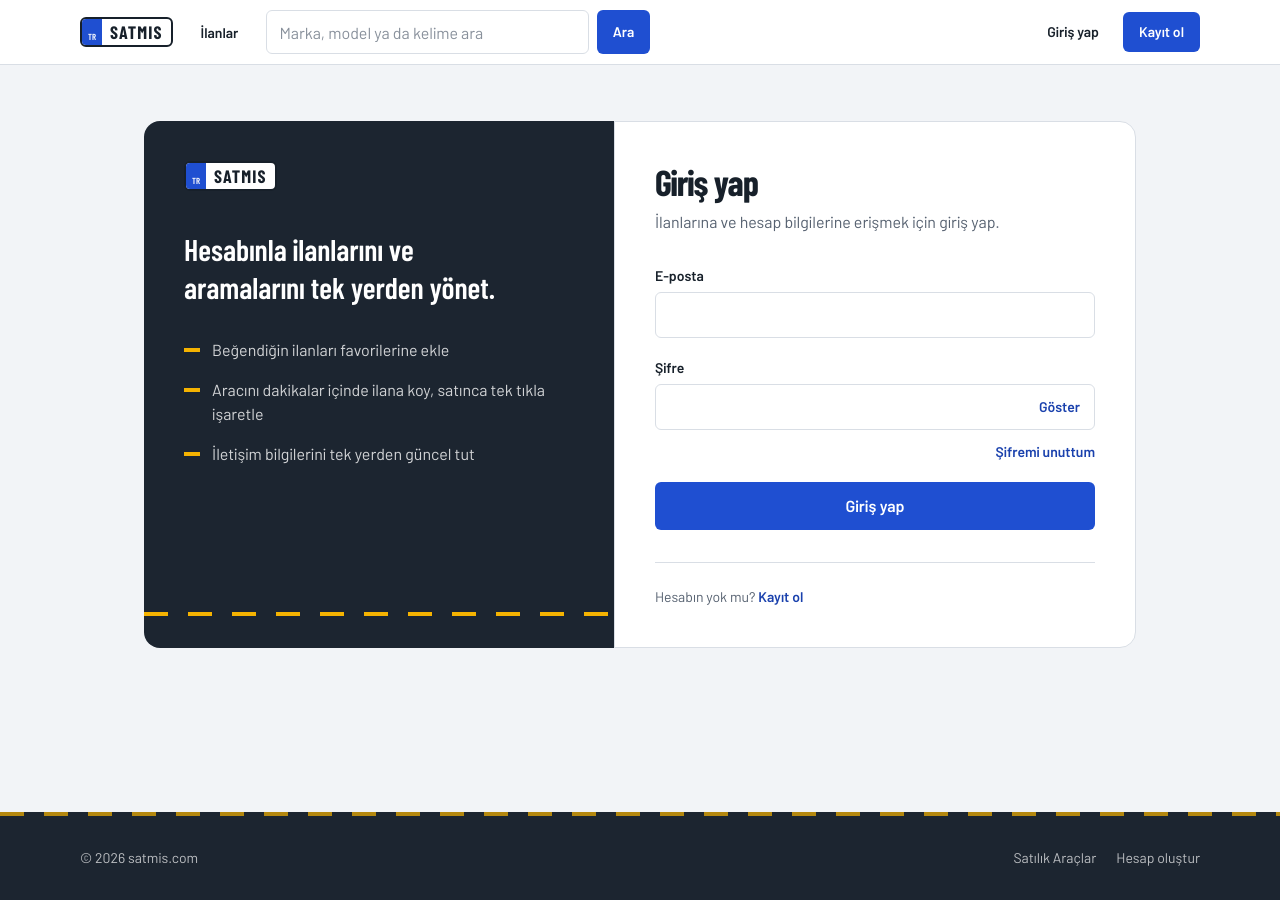
Test case: LoginForm › submit_invalidEmail_showsFormatMessage
This screenshot has width=1280, height=900.
Type "ayse@" into the field labelled "E-posta" at (875, 315), box [656,293,1094,337]
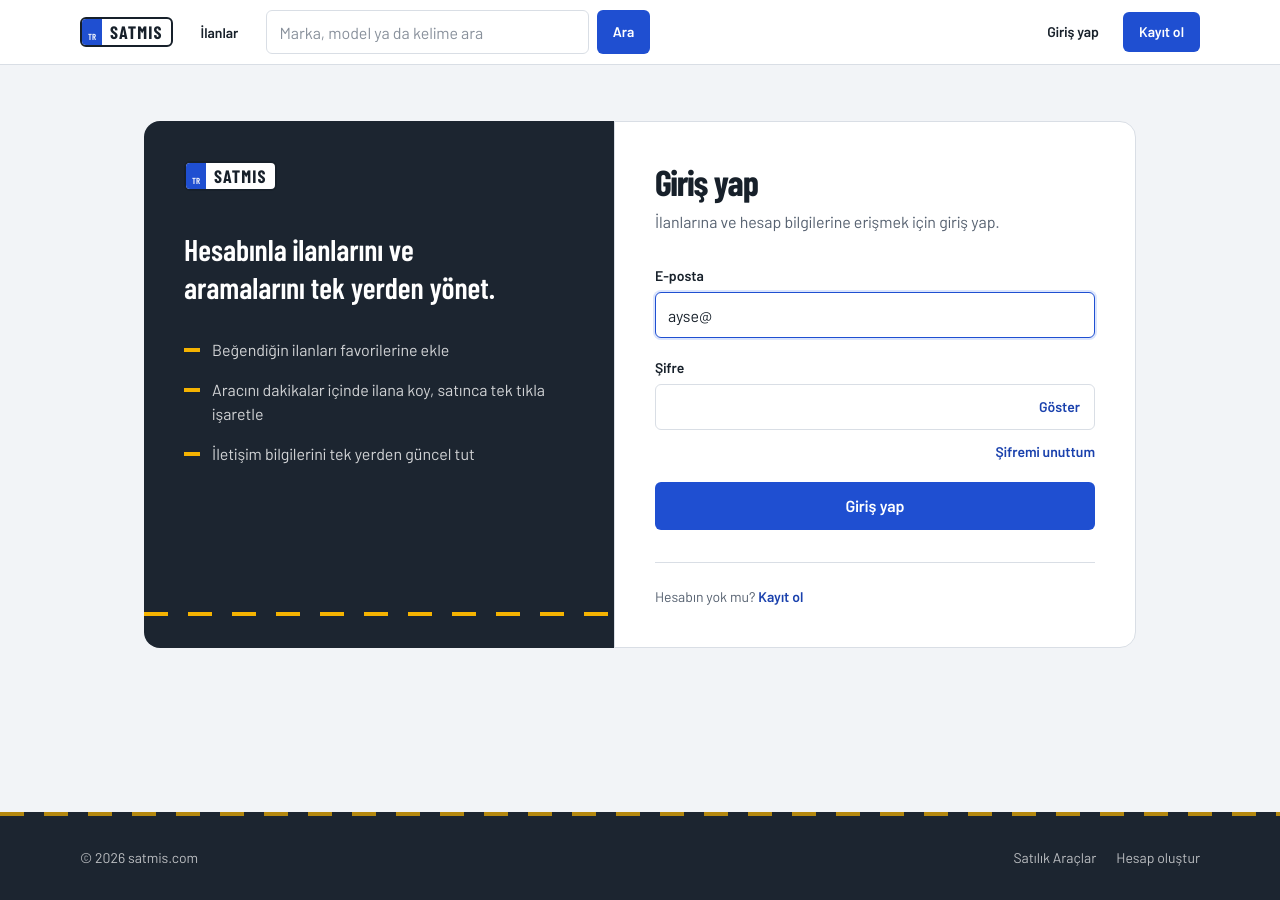
Type "GizliSifre123" into the password field labelled "Şifre" at (842, 407), box [656,385,1029,429]
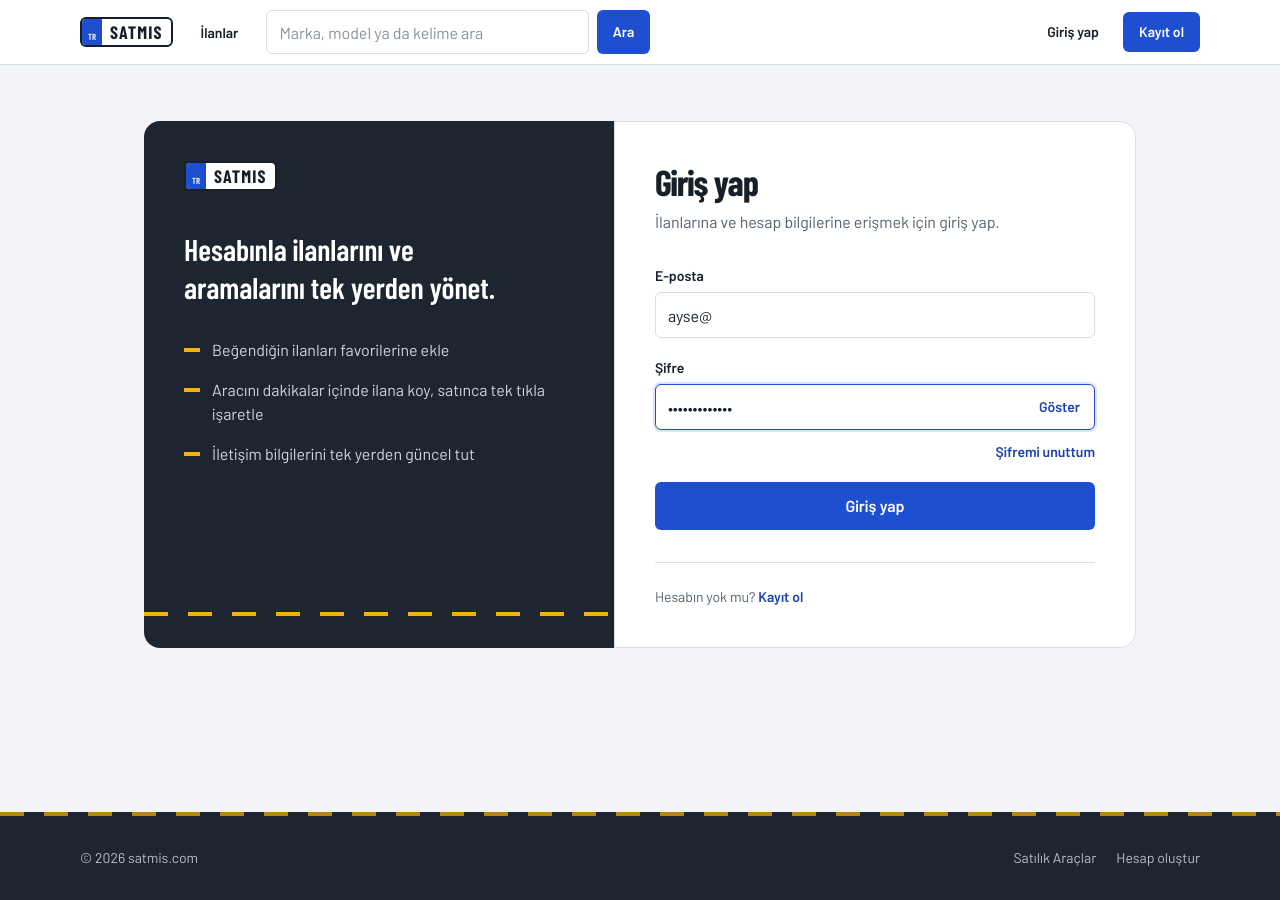
Click the button "Giriş yap" at (875, 506), box [655,482,1095,530]
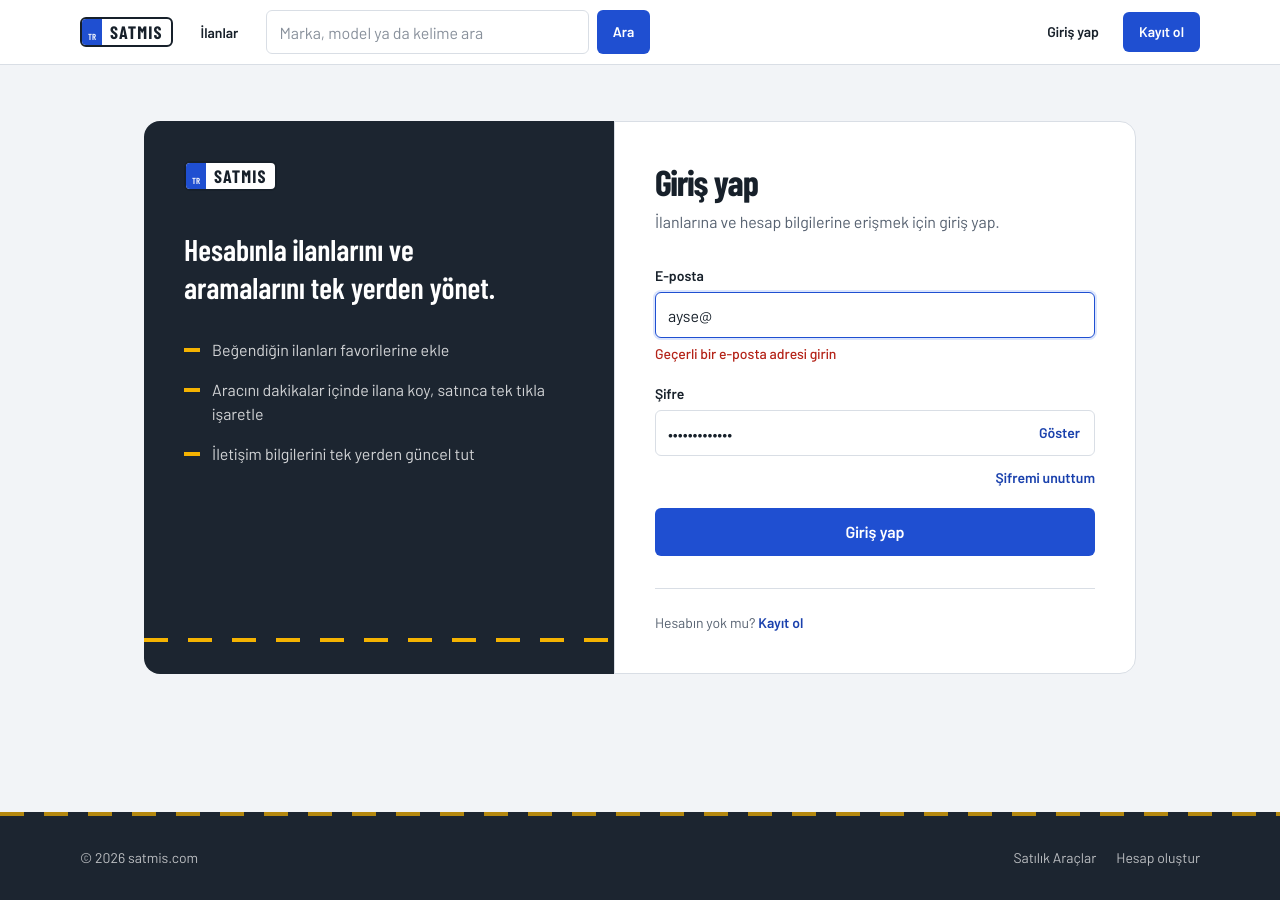
Expected: the text "Geçerli bir e-posta adresi girin" is shown, [655,345,836,362]
